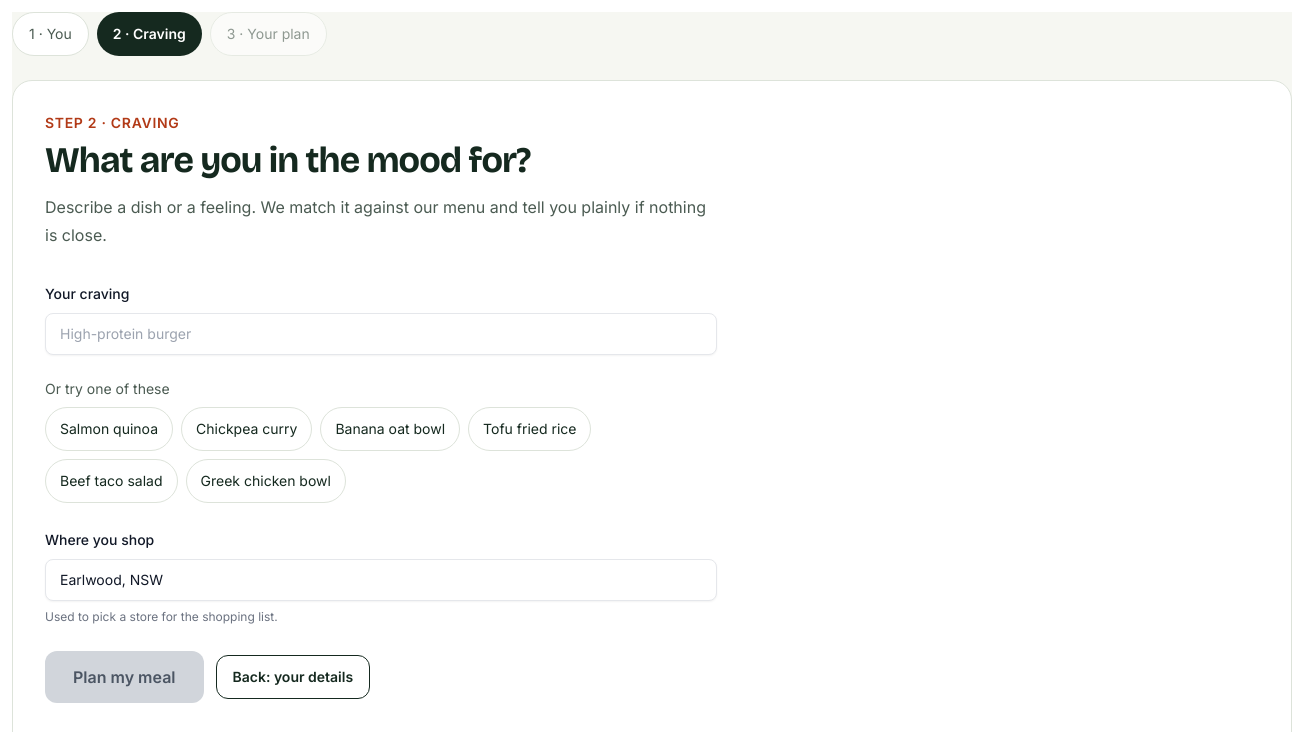
Test: Plan screen › marks a macro outside its range and keeps the service verdict
Type "chicken fried rice" into the field labelled "Your craving". click: (381, 334)
box: 45,313 -> 717,355
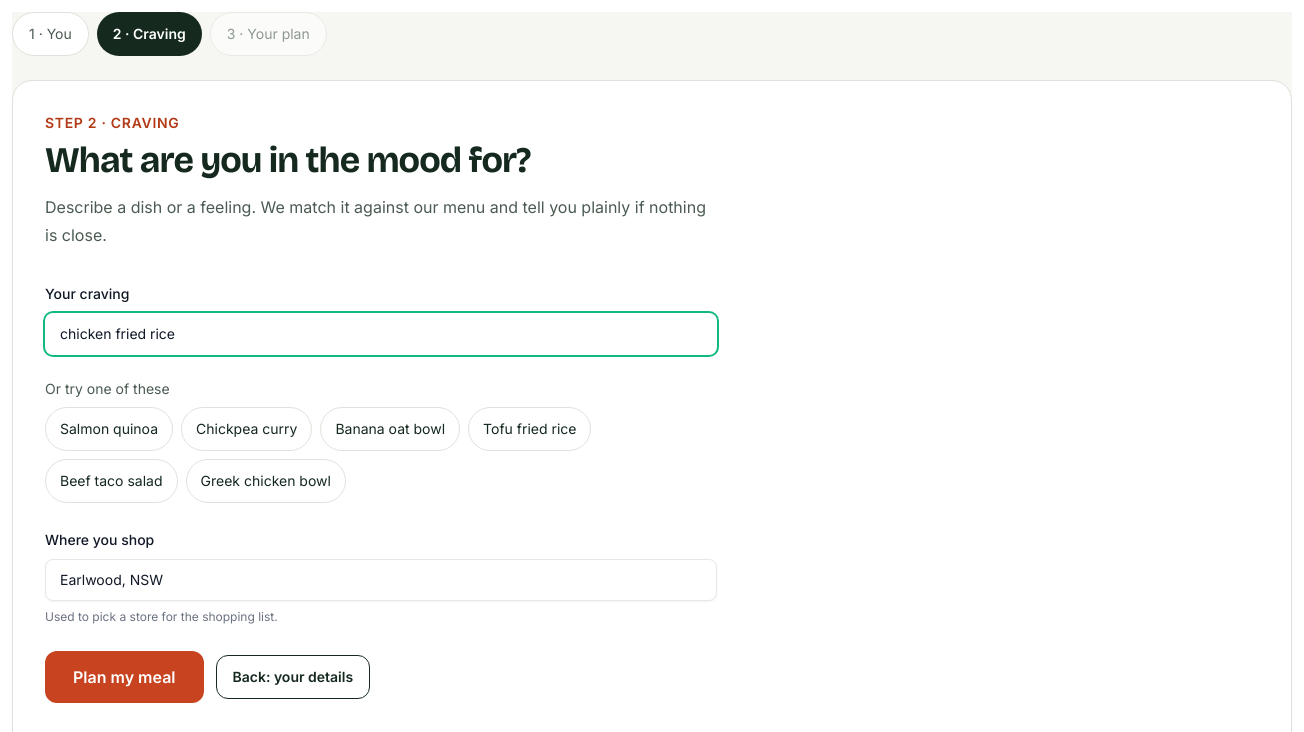
Click the button "Plan my meal". click: (124, 677)
box: 45,651 -> 204,703
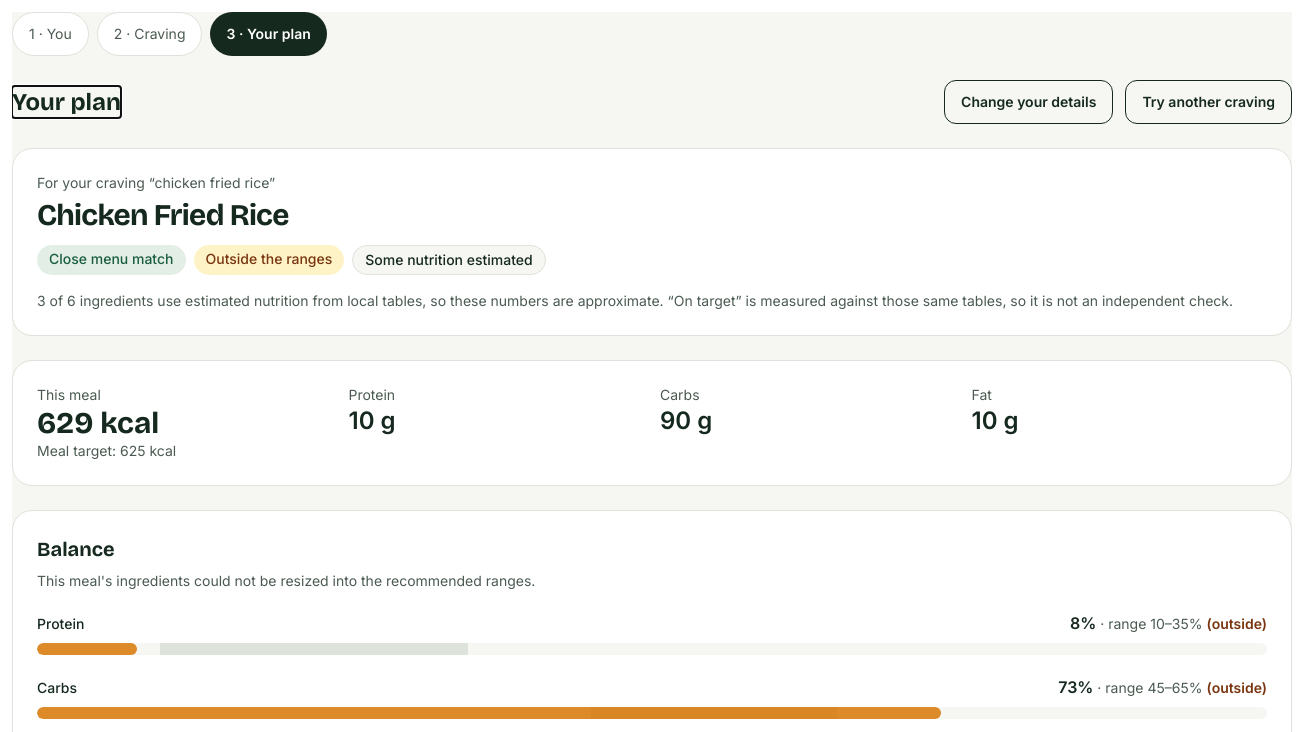
expect the text "Outside the ranges" is shown: met, box 194,245 -> 344,275
expect the text "(outside)" is shown 3 times: met
expect the text "73%" is shown: met, box 1058,677 -> 1093,697
